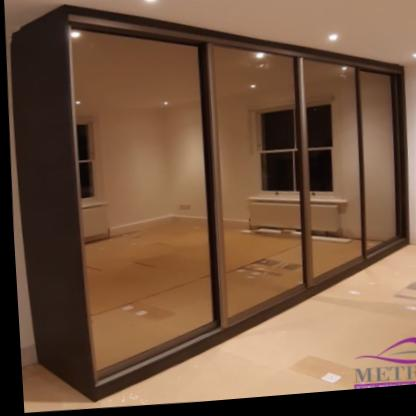Closet: (11, 7, 406, 401)
